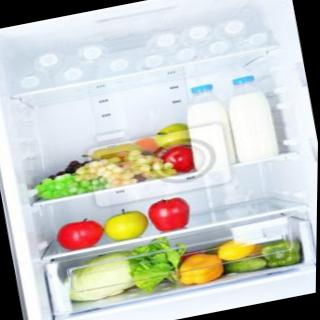Milk: (221, 64, 287, 164), (176, 73, 242, 173)
fruit: (146, 189, 201, 237), (40, 213, 103, 254), (99, 203, 151, 246), (38, 175, 76, 200)
